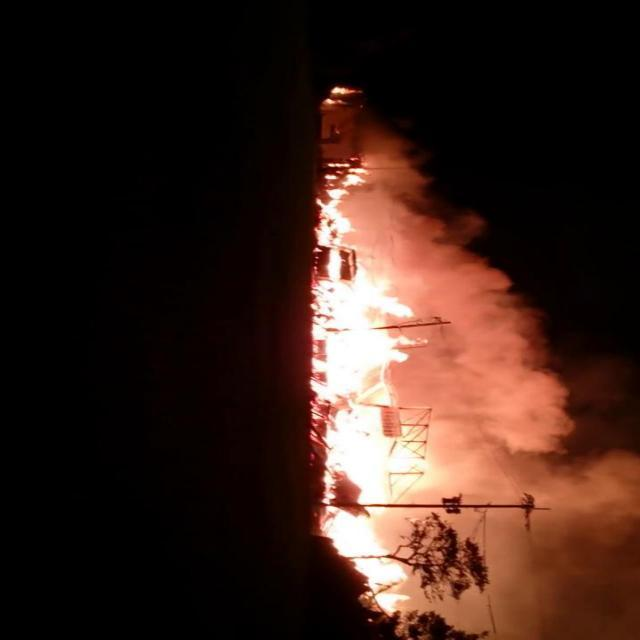Fire: (317, 161, 428, 614), (324, 86, 364, 108)
